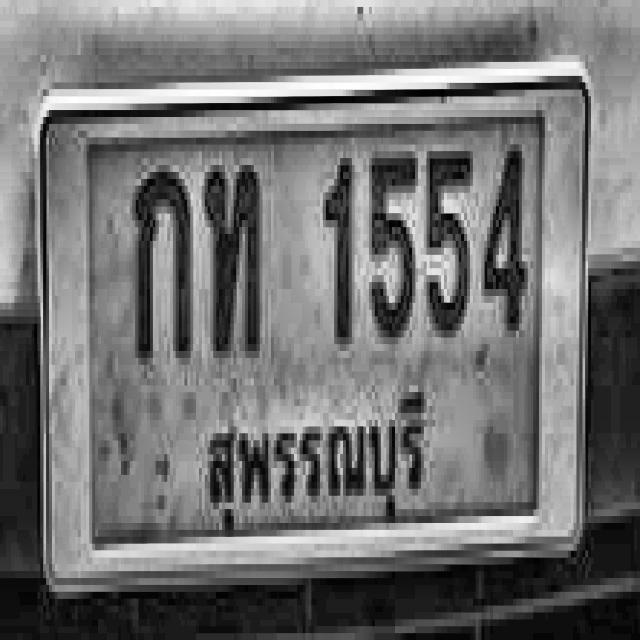license-plate: (25, 27, 602, 635)
